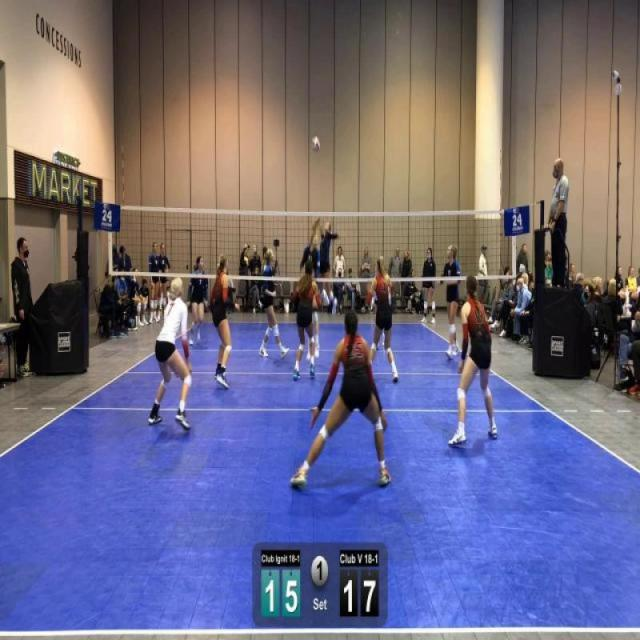volleyball: (310, 134, 322, 154)
